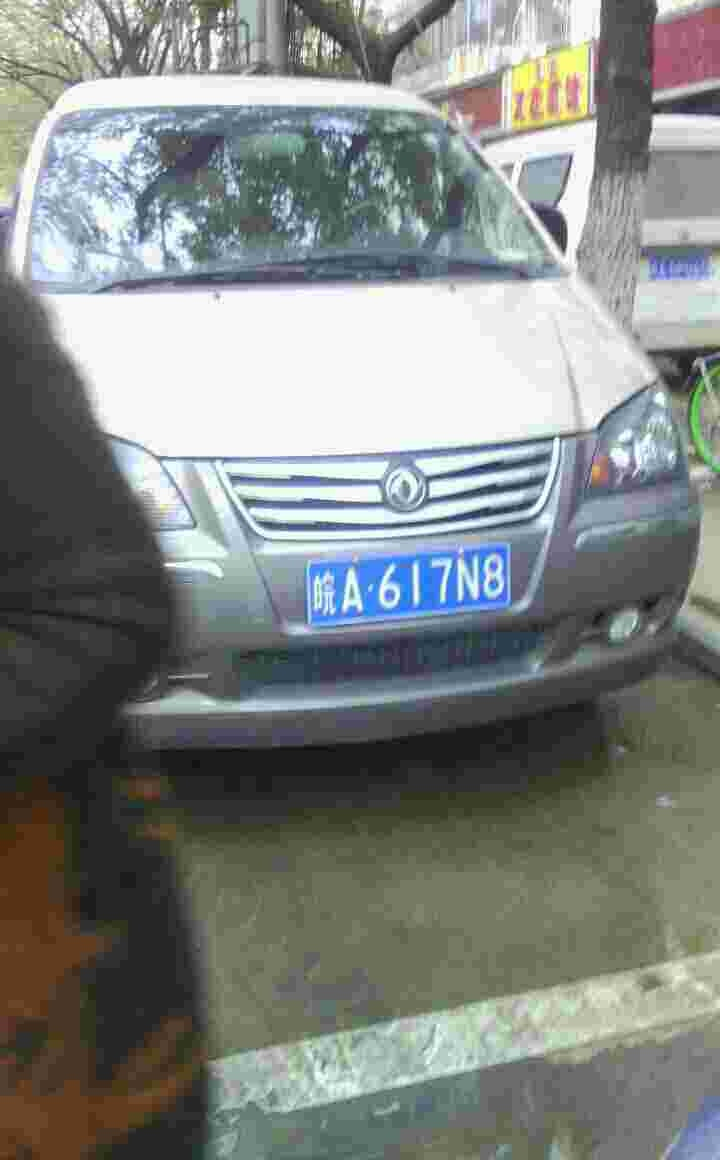license_plate: (304, 546, 513, 631)
